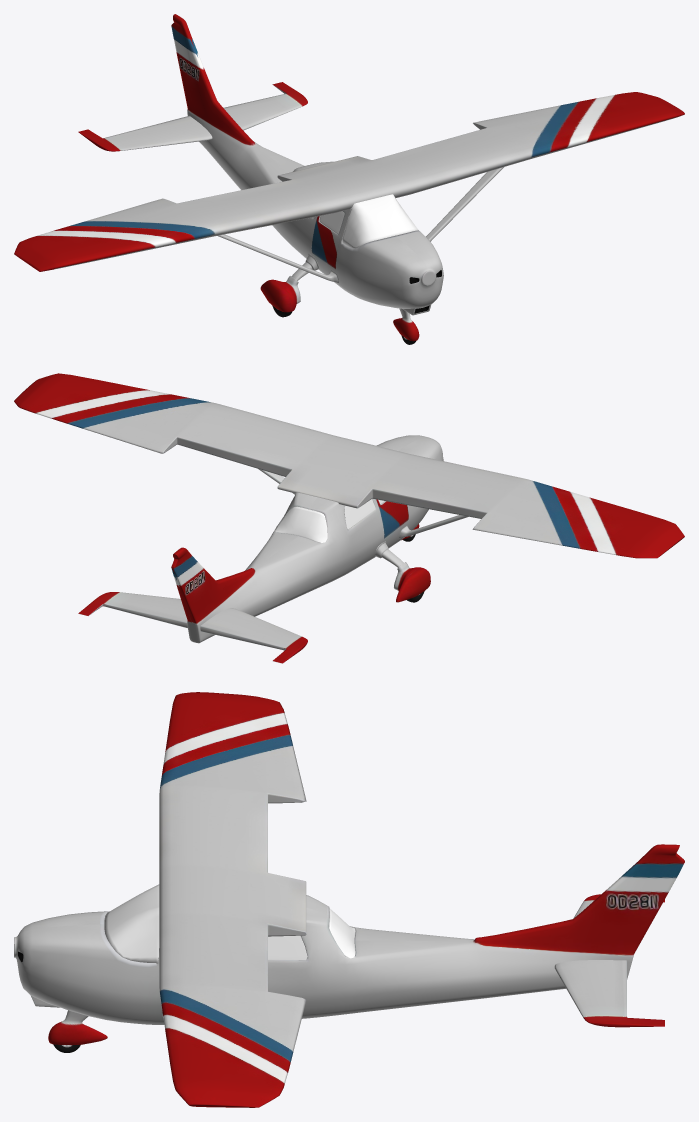
The model's file is CessnaBodyFixed2.obj.
3 renders of one model, top to bottom at view 1: azimuth 30°, elevation 25°; view 2: azimuth 150°, elevation 25°; view 3: azimuth 270°, elevation 25°, orthographic. The views are drawn at different scales.
Visible parts, largest first — view 1: A23DOBJ_001_Mesh.007, A23DOBJ_001_Mesh.026, A23DOBJ_001_Mesh.006, A23DOBJ_001_Mesh.003, A23DOBJ_001_Mesh.024, A23DOBJ_001_Mesh.019, A23DOBJ_001_Mesh.020, A23DOBJ_001_Mesh.023; view 2: A23DOBJ_001_Mesh.007, A23DOBJ_001_Mesh.026, A23DOBJ_001_Mesh.006, A23DOBJ_001_Mesh, A23DOBJ_001_Mesh.024, A23DOBJ_001_Mesh.004; view 3: A23DOBJ_001_Mesh.007, A23DOBJ_001_Mesh.026, A23DOBJ_001_Mesh.006, A23DOBJ_001_Mesh.003, A23DOBJ_001_Mesh.023, A23DOBJ_001_Mesh.001, A23DOBJ_001_Mesh.
Part boxes in pixels (x1=…): A23DOBJ_001_Mesh.007: x1=14, y1=92, x2=684, y2=271; A23DOBJ_001_Mesh.026: x1=171, y1=14, x2=443, y2=308; A23DOBJ_001_Mesh.006: x1=78, y1=82, x2=307, y2=151; A23DOBJ_001_Mesh.003: x1=341, y1=194, x2=418, y2=248; A23DOBJ_001_Mesh.024: x1=260, y1=276, x2=300, y2=312; A23DOBJ_001_Mesh.019: x1=426, y1=167, x2=503, y2=241; A23DOBJ_001_Mesh.020: x1=217, y1=234, x2=338, y2=282; A23DOBJ_001_Mesh.023: x1=393, y1=308, x2=419, y2=341; A23DOBJ_001_Mesh.007: x1=14, y1=373, x2=684, y2=558; A23DOBJ_001_Mesh.026: x1=171, y1=435, x2=443, y2=643; A23DOBJ_001_Mesh.006: x1=78, y1=592, x2=307, y2=663; A23DOBJ_001_Mesh: x1=275, y1=506, x2=327, y2=542; A23DOBJ_001_Mesh.024: x1=394, y1=562, x2=430, y2=602; A23DOBJ_001_Mesh.004: x1=344, y1=499, x2=375, y2=529; A23DOBJ_001_Mesh.007: x1=159, y1=692, x2=306, y2=1107; A23DOBJ_001_Mesh.026: x1=14, y1=844, x2=684, y2=1024; A23DOBJ_001_Mesh.006: x1=554, y1=894, x2=664, y2=1027; A23DOBJ_001_Mesh.003: x1=104, y1=884, x2=159, y2=963; A23DOBJ_001_Mesh.023: x1=48, y1=1010, x2=107, y2=1045; A23DOBJ_001_Mesh.001: x1=268, y1=935, x2=307, y2=960; A23DOBJ_001_Mesh: x1=329, y1=908, x2=355, y2=958.
Size of the model in its own units: 8.48 by 1.99 by 5.83.
Materials: 3 (3 with a texture image).
